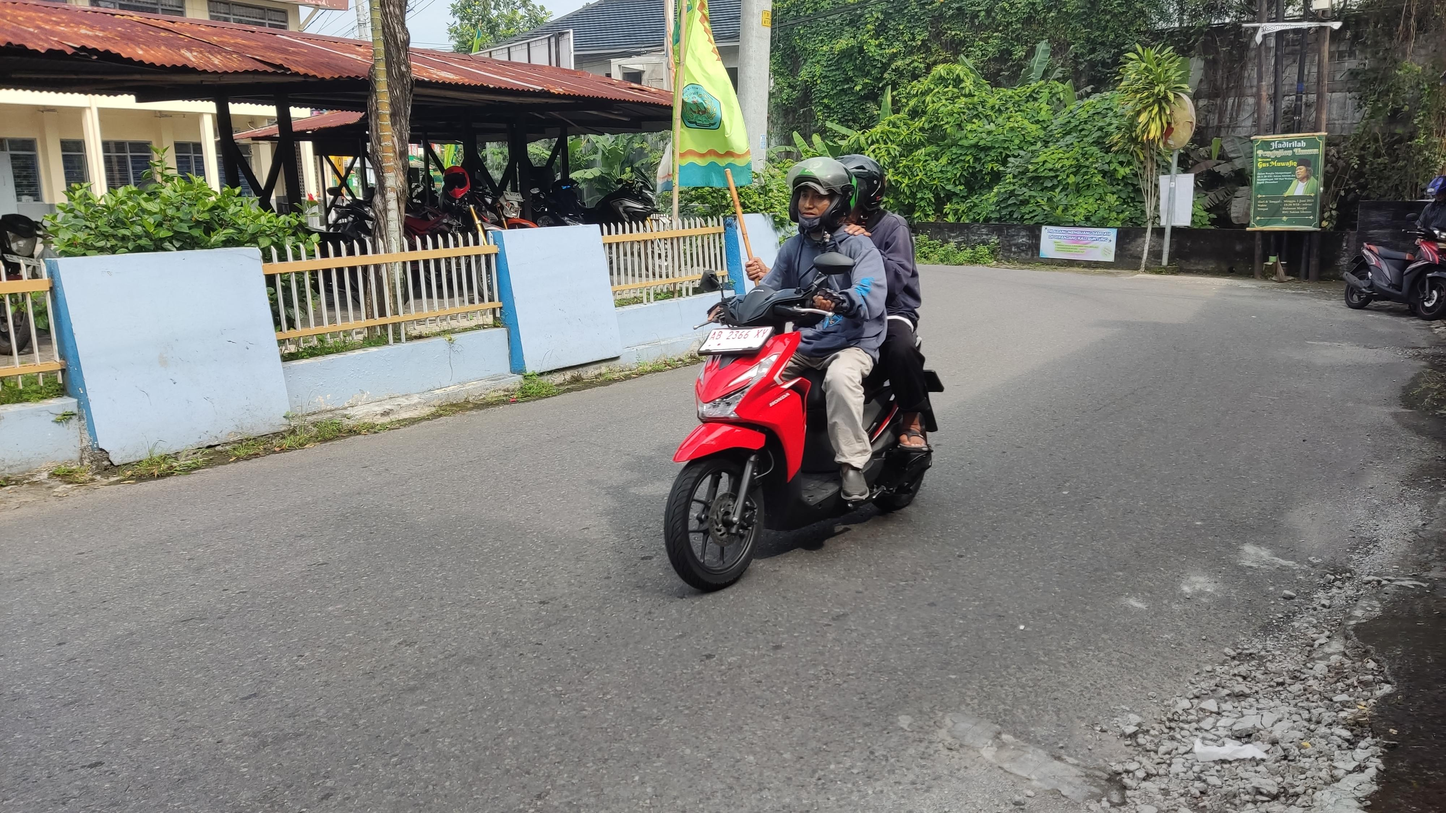helm: (784, 155, 860, 231), (832, 154, 888, 217)
riding: (663, 152, 947, 592)
